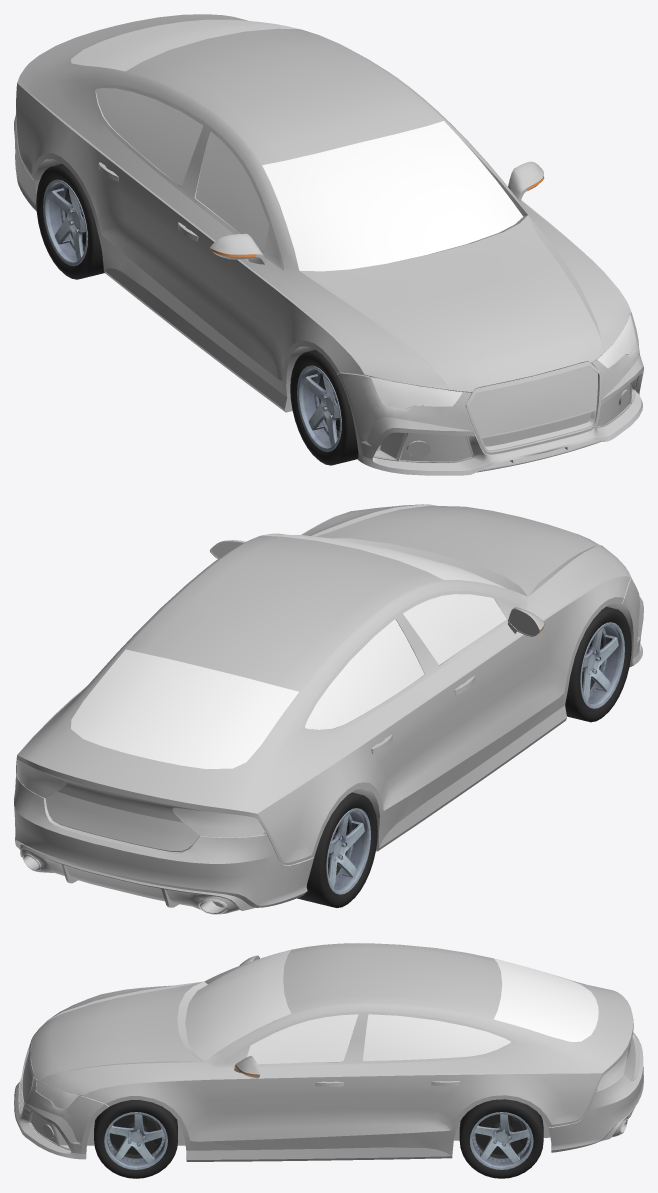
Rendered from car.gltf.
The picture shows the model from 3 angles, top to bottom: view 1: azimuth 30°, elevation 25°; view 2: azimuth 150°, elevation 25°; view 3: azimuth 270°, elevation 25°; orthographic projection. The views are drawn at different scales.
Parts seen in each view (by area): view 1: body, tire1-fr, tire1-rr, rim-rr, rim-fr; view 2: body, tire1-rr, rim-rr, rim-fr, tire1-fr; view 3: body, tire1-rl, tire1-fl, rim-fl, rim-rl, disk-rl, disk-fl.
Part boxes in pixels (x1=…): body: x1=14, y1=14, x2=643, y2=475; tire1-fr: x1=290, y1=350, x2=358, y2=465; tire1-rr: x1=36, y1=164, x2=104, y2=279; rim-rr: x1=43, y1=179, x2=87, y2=266; rim-fr: x1=297, y1=365, x2=341, y2=451; body: x1=14, y1=504, x2=643, y2=914; tire1-rr: x1=297, y1=792, x2=377, y2=907; rim-rr: x1=326, y1=808, x2=370, y2=894; rim-fr: x1=580, y1=622, x2=624, y2=708; tire1-fr: x1=565, y1=606, x2=631, y2=722; body: x1=14, y1=943, x2=643, y2=1161; tire1-rl: x1=459, y1=1099, x2=543, y2=1178; tire1-fl: x1=94, y1=1100, x2=177, y2=1178; rim-fl: x1=104, y1=1112, x2=167, y2=1169; rim-rl: x1=470, y1=1112, x2=533, y2=1169; disk-rl: x1=478, y1=1114, x2=521, y2=1154; disk-fl: x1=112, y1=1114, x2=156, y2=1154.
Bounding box in the file's own units: 2.16 × 1.38 × 4.96.
